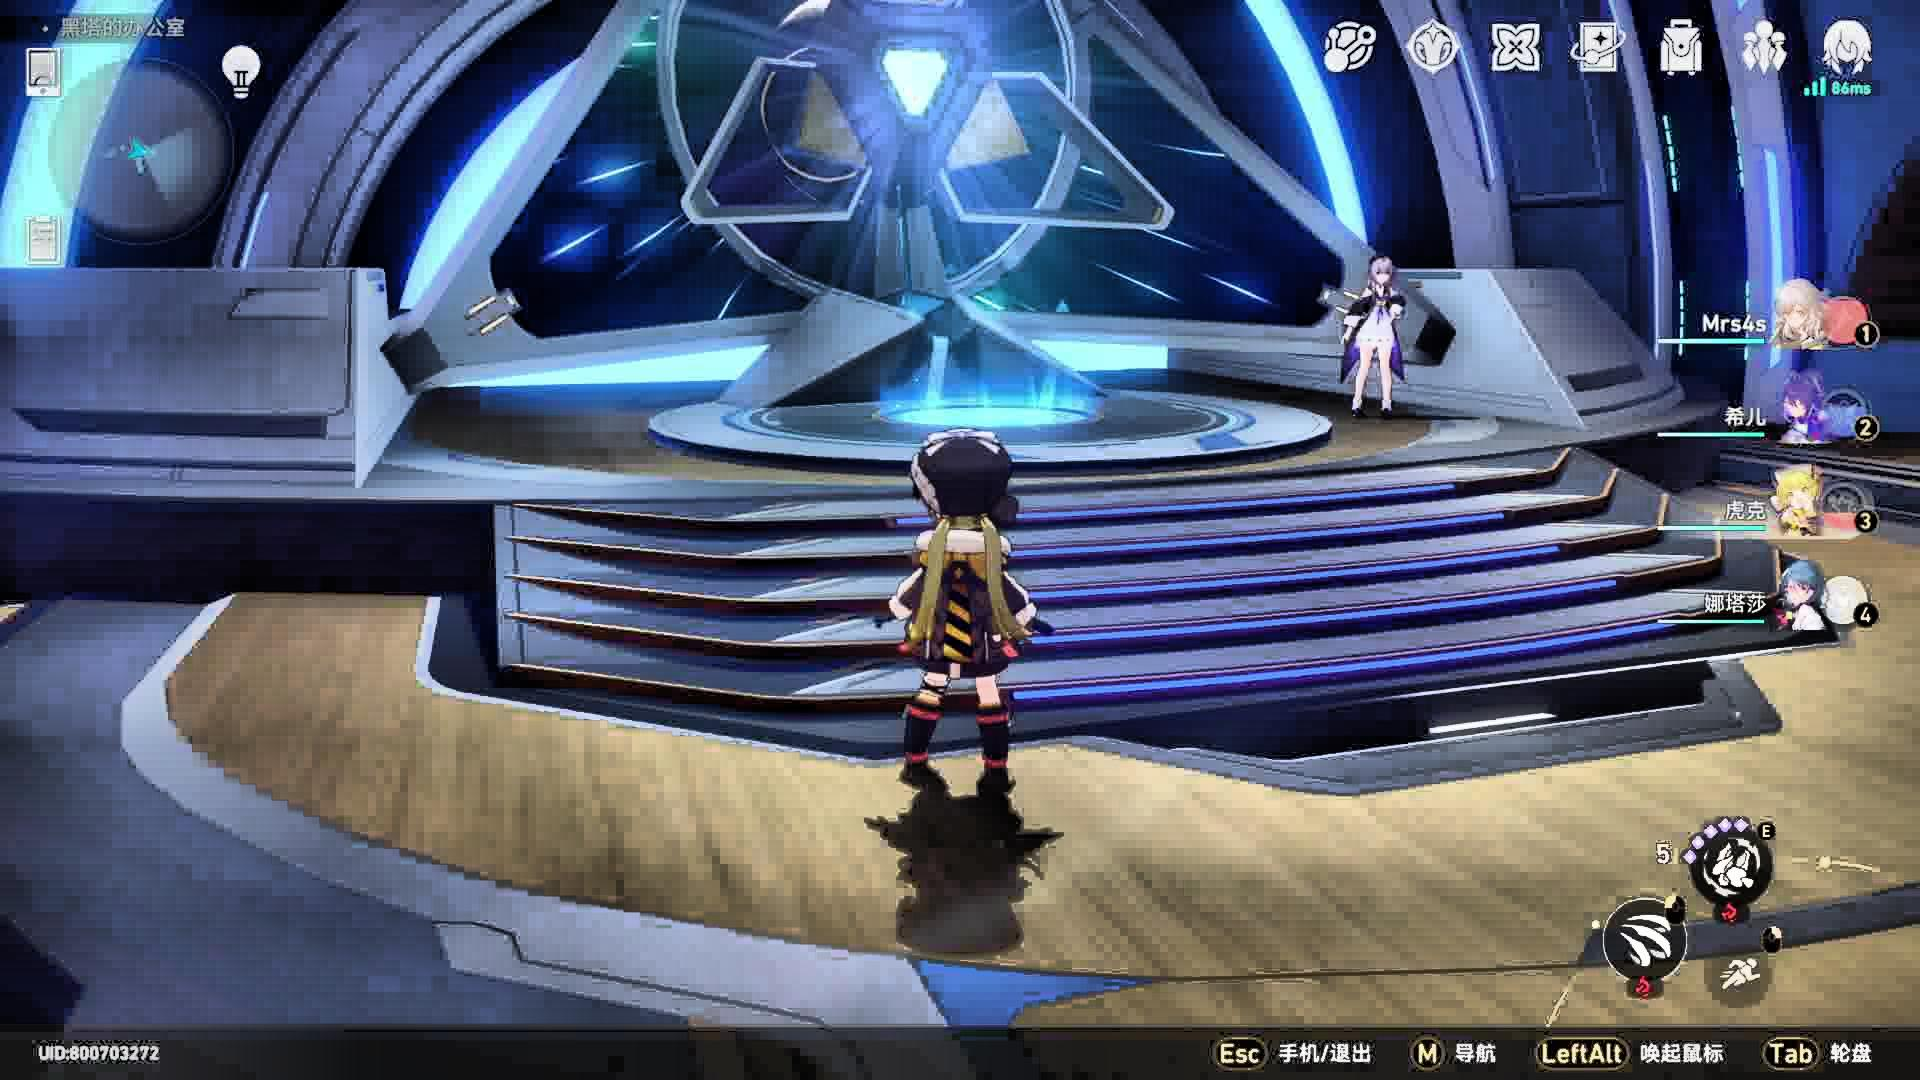Self: (876, 431, 1040, 796)
TeamMate: (1341, 256, 1411, 419)
